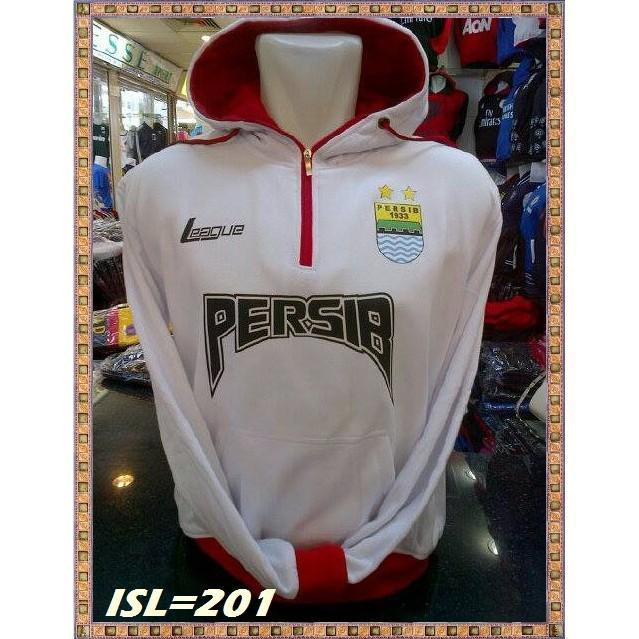Tshirt: (115, 19, 505, 598)
